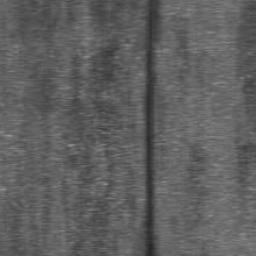Scratches: (144, 0, 157, 256)
